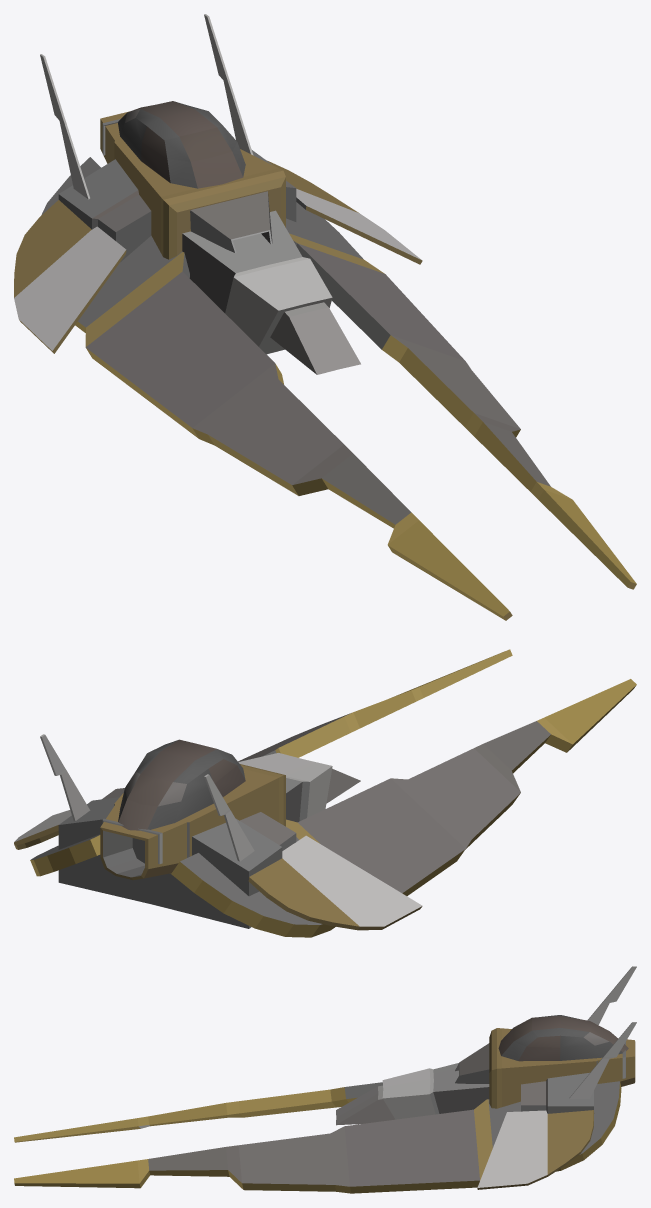
The model's file is dispatcher.glb.
3 renders of one model, top to bottom at view 1: azimuth 30°, elevation 25°; view 2: azimuth 150°, elevation 25°; view 3: azimuth 270°, elevation 25°, orthographic. The views are drawn at different scales.
Parts seen in each view (by area): view 1: Dispatcher; view 2: Dispatcher; view 3: Dispatcher.
Part boxes in pixels (box(x1,y1,x2,y2)): Dispatcher: box(14, 14, 636, 620); Dispatcher: box(14, 649, 636, 937); Dispatcher: box(14, 966, 636, 1193).
Size of the model in its own units: 4.9 by 3.09 by 10.26.
